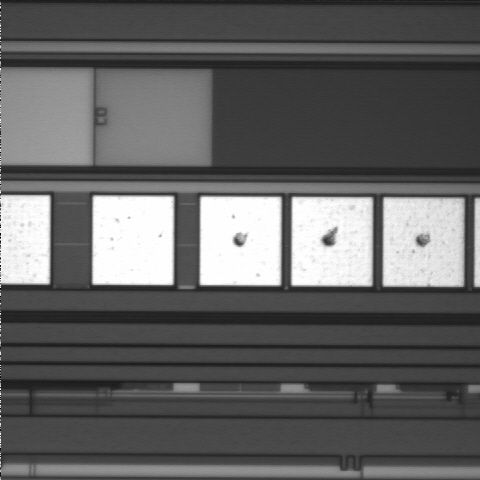pad: (92, 196, 174, 285), (291, 197, 373, 286), (383, 198, 464, 287), (200, 197, 281, 285)
